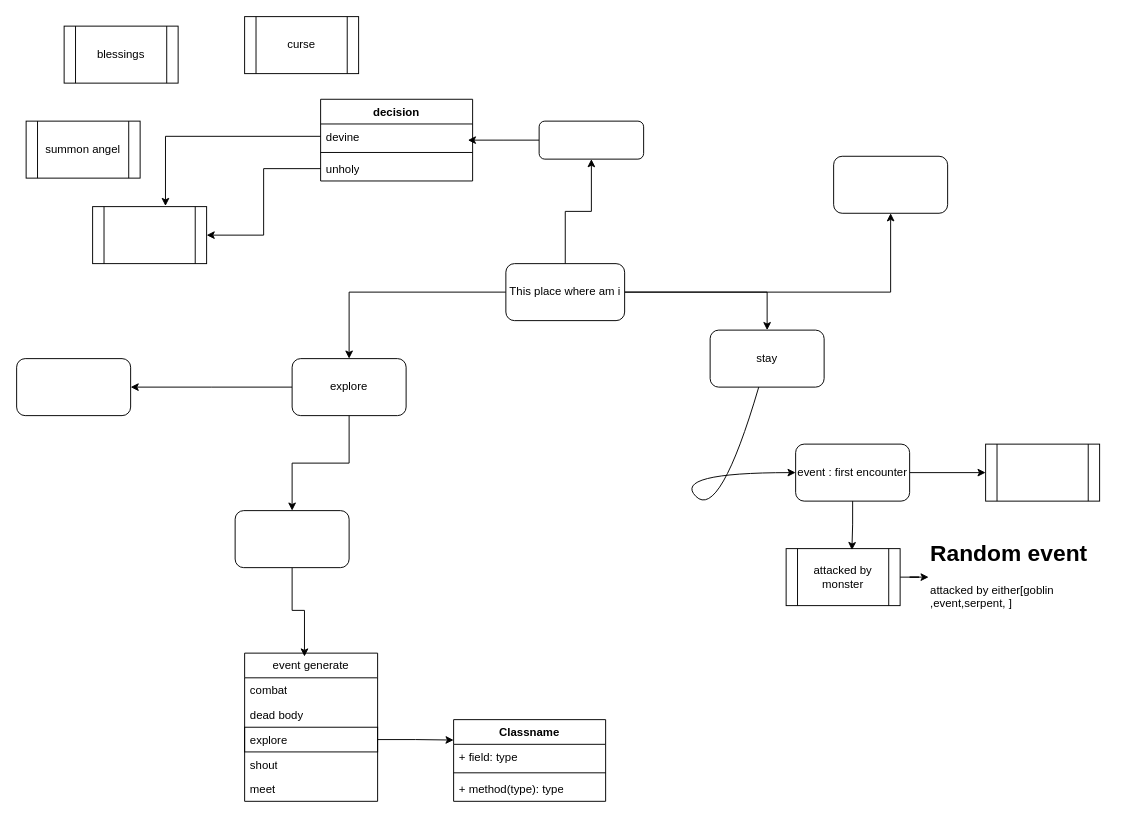
This 1145x821 diagram has some shape labels left out. The shapes that lost their labels are listed below. From the top down, each one's centre as x and y in pixels, then its label:
At [591,139]: "Pray".
At [890,184]: "sleep".
At [149,235]: "summon executioner".
At [73,387]: "back to where u were".
At [1042,472]: "visitor approuch".
At [291,539]: "dungeon layer 1 north sector south sector".
